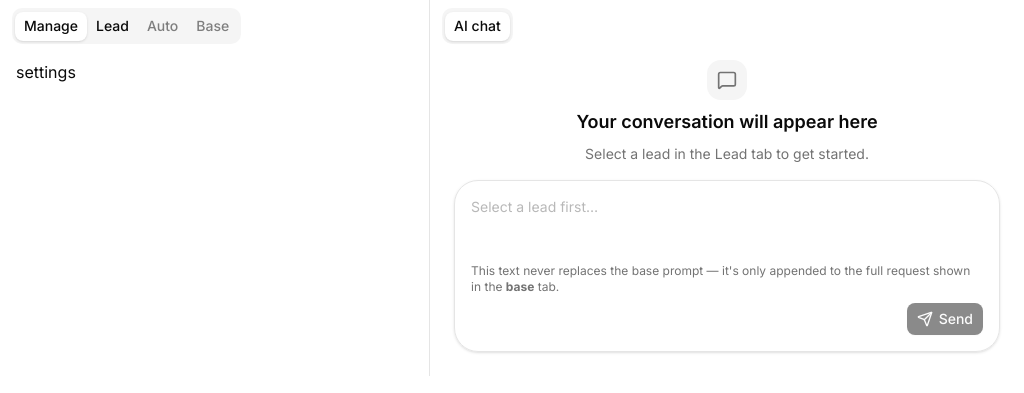
Scenario: AiPromptWorkspace › shows provider-not-configured honestly
Step 1. Click the tab "Lead" → point(112, 26), box x1=87 y1=12 x2=138 y2=40
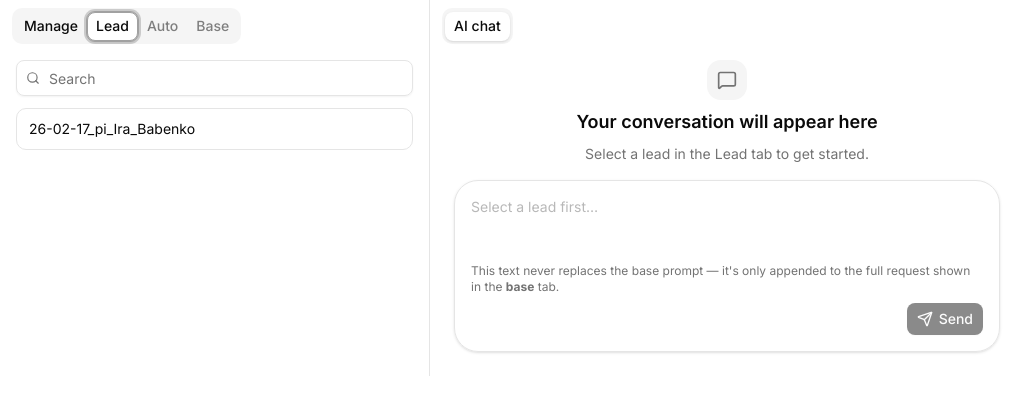
Step 2. Click the button "26-02-17_pi_Ira_Babenko" → point(112, 128), box x1=16 y1=108 x2=413 y2=150
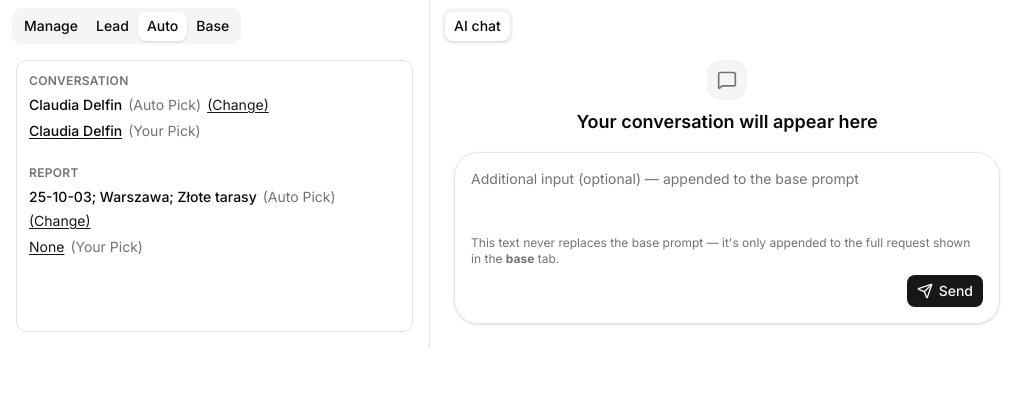
Step 3. Click the button "Send" → point(945, 291), box x1=907 y1=275 x2=983 y2=307
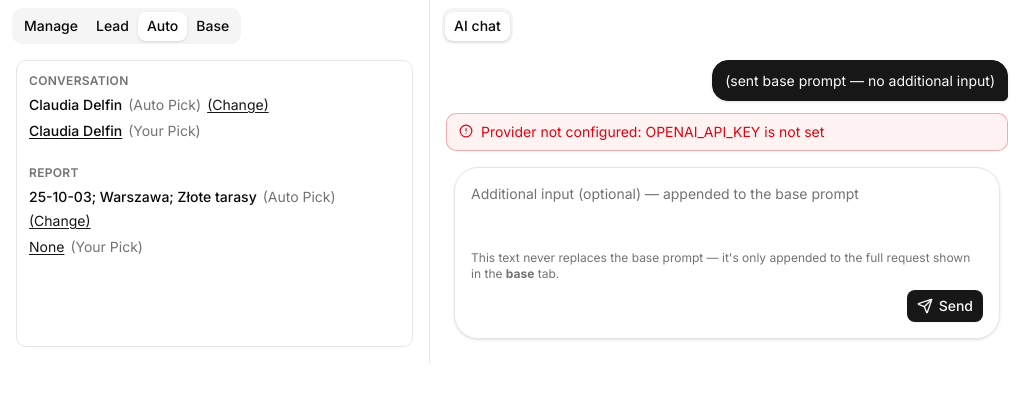
Expected: the text "Provider not configured: OPENAI_API_KEY is not set" is shown, x1=481 y1=122 x2=824 y2=142
